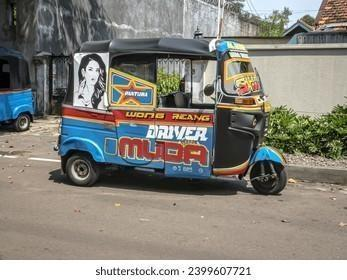keke: (60, 29, 288, 206)
